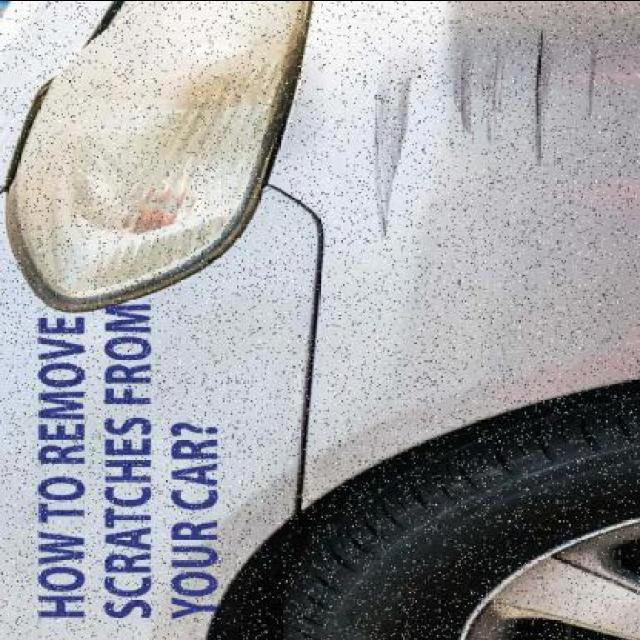front-bumper-dent: (286, 0, 640, 503)
